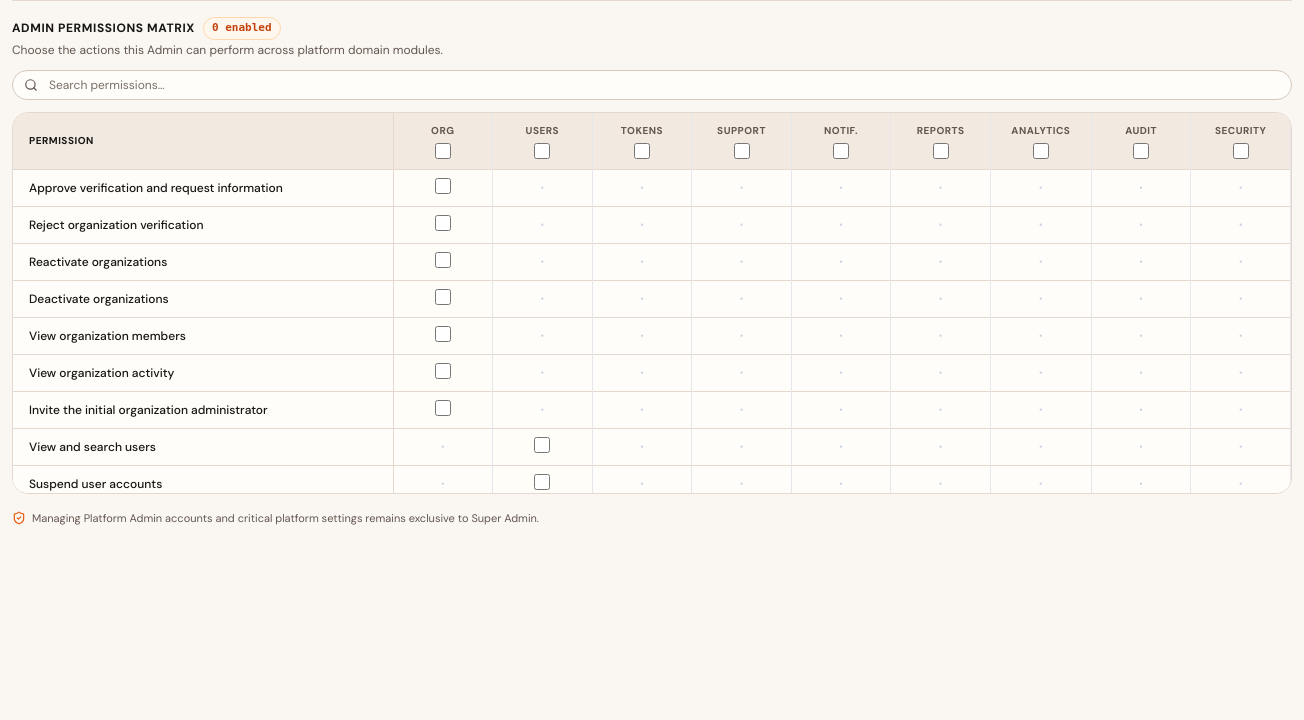
Test case: Platform Admin Features Search (Bug 4) › filters features by partial matching and case-insensitivity
In the field with placeholder "Search permissions…": (652,84) [12, 70, 1292, 100], type "org"
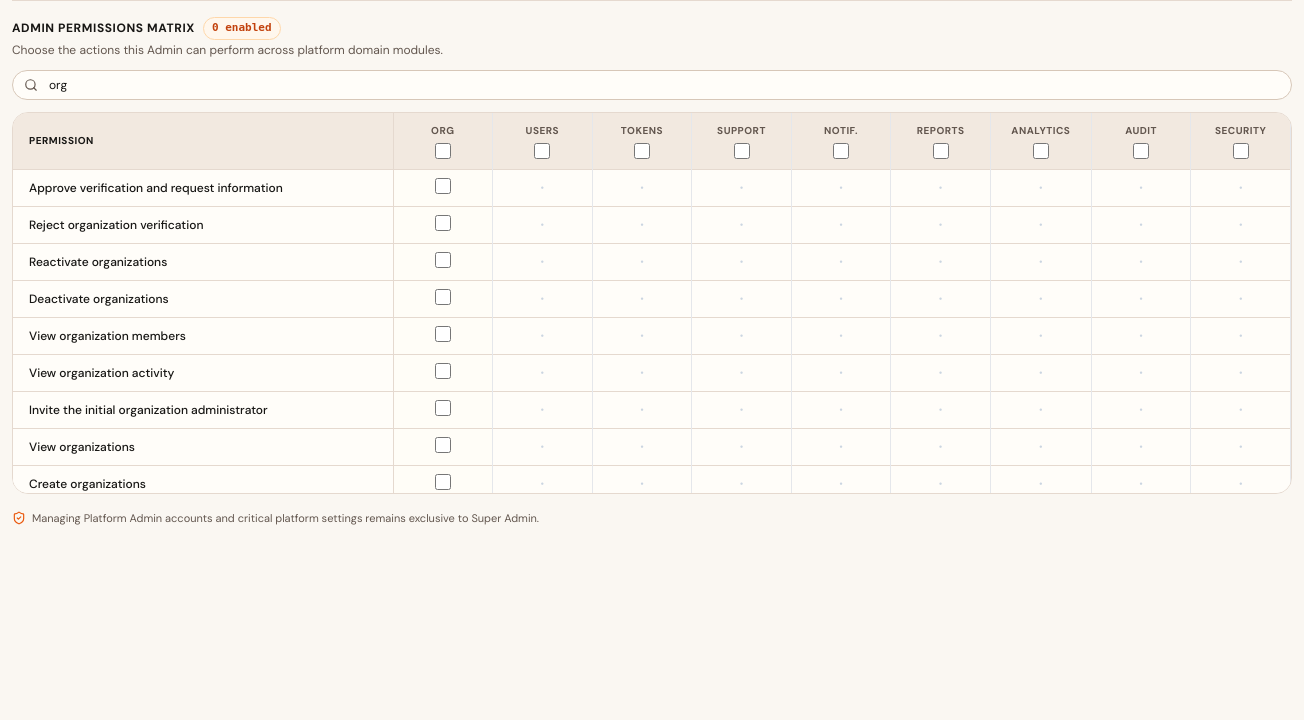
Result: the text "View organizations" is shown at [29, 438, 135, 454]
